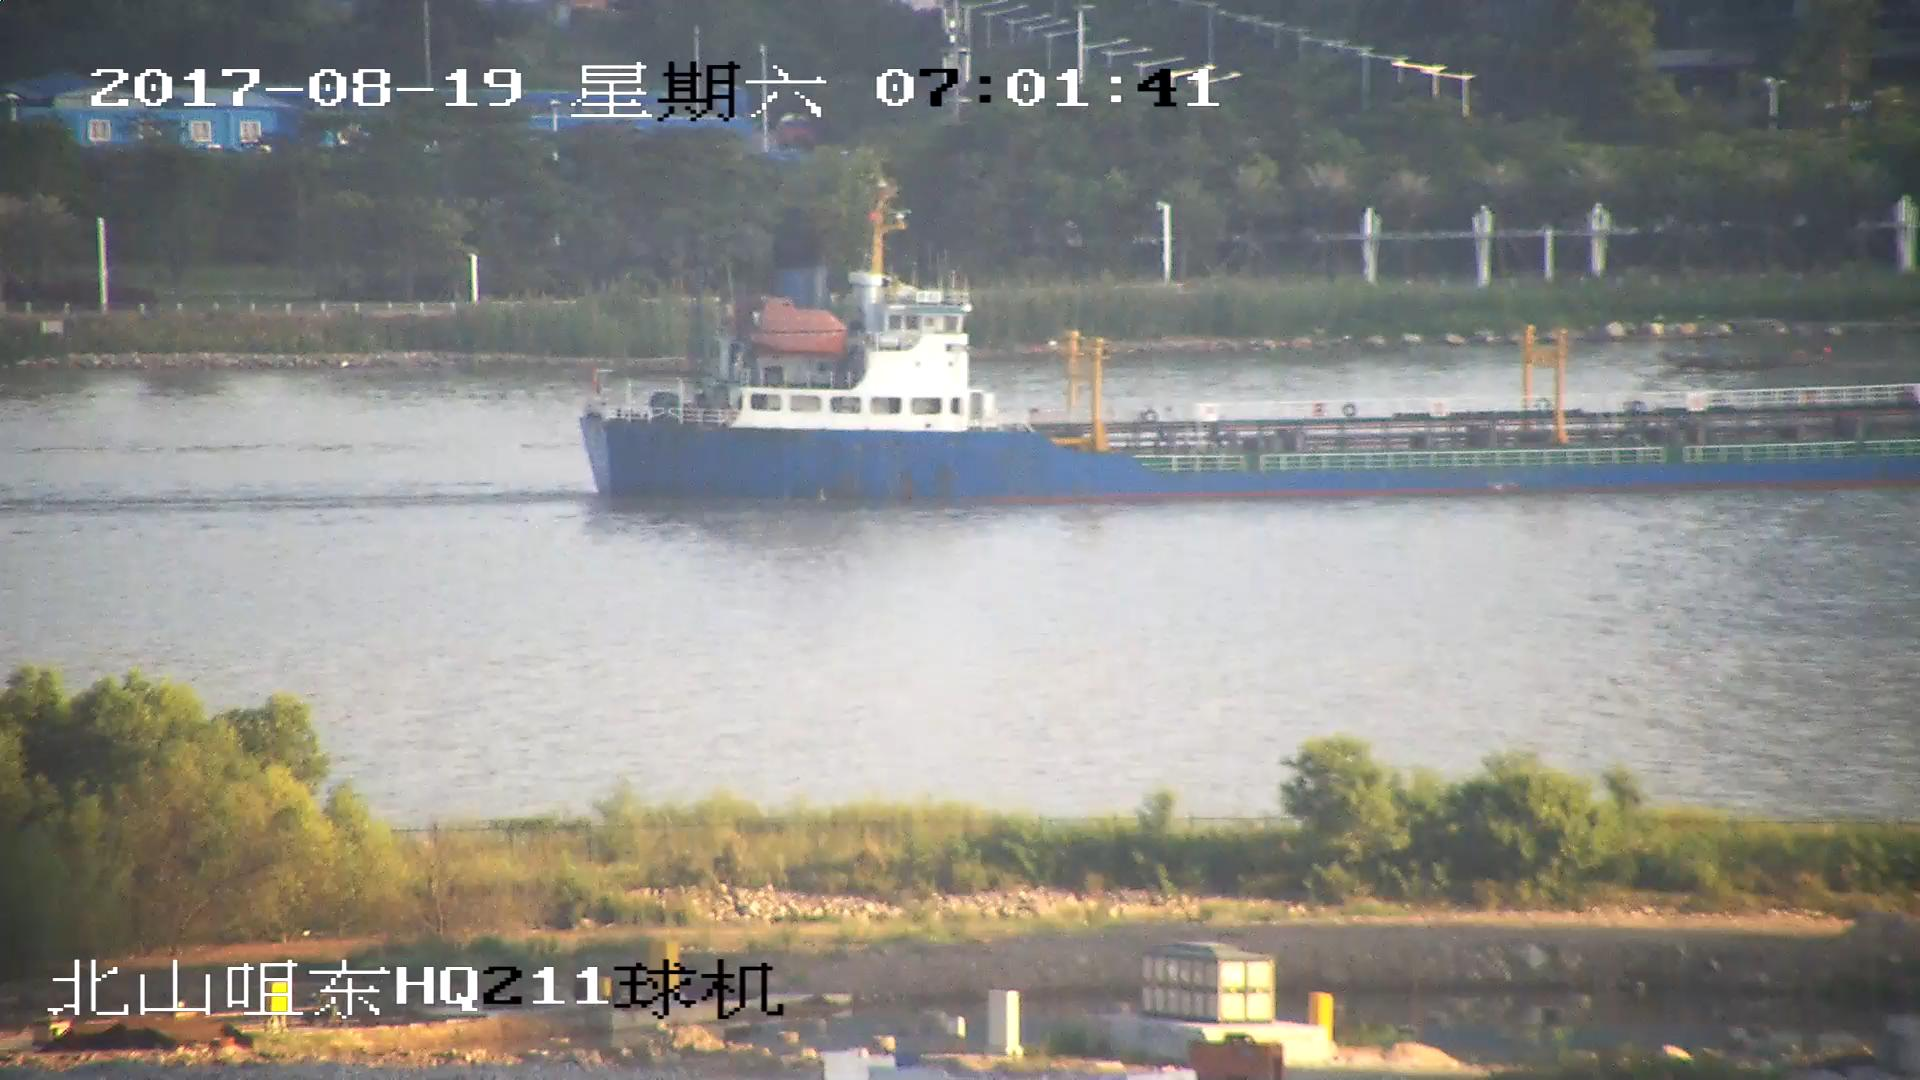general cargo ship: (564, 190, 1920, 516)
